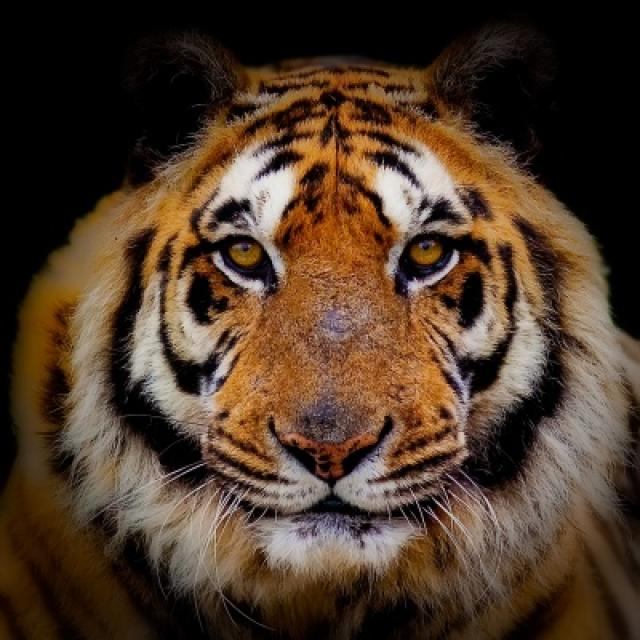Tiger: (0, 26, 637, 638)
